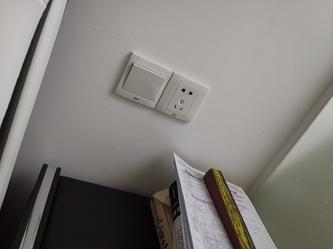switch: (132, 61, 156, 97)
